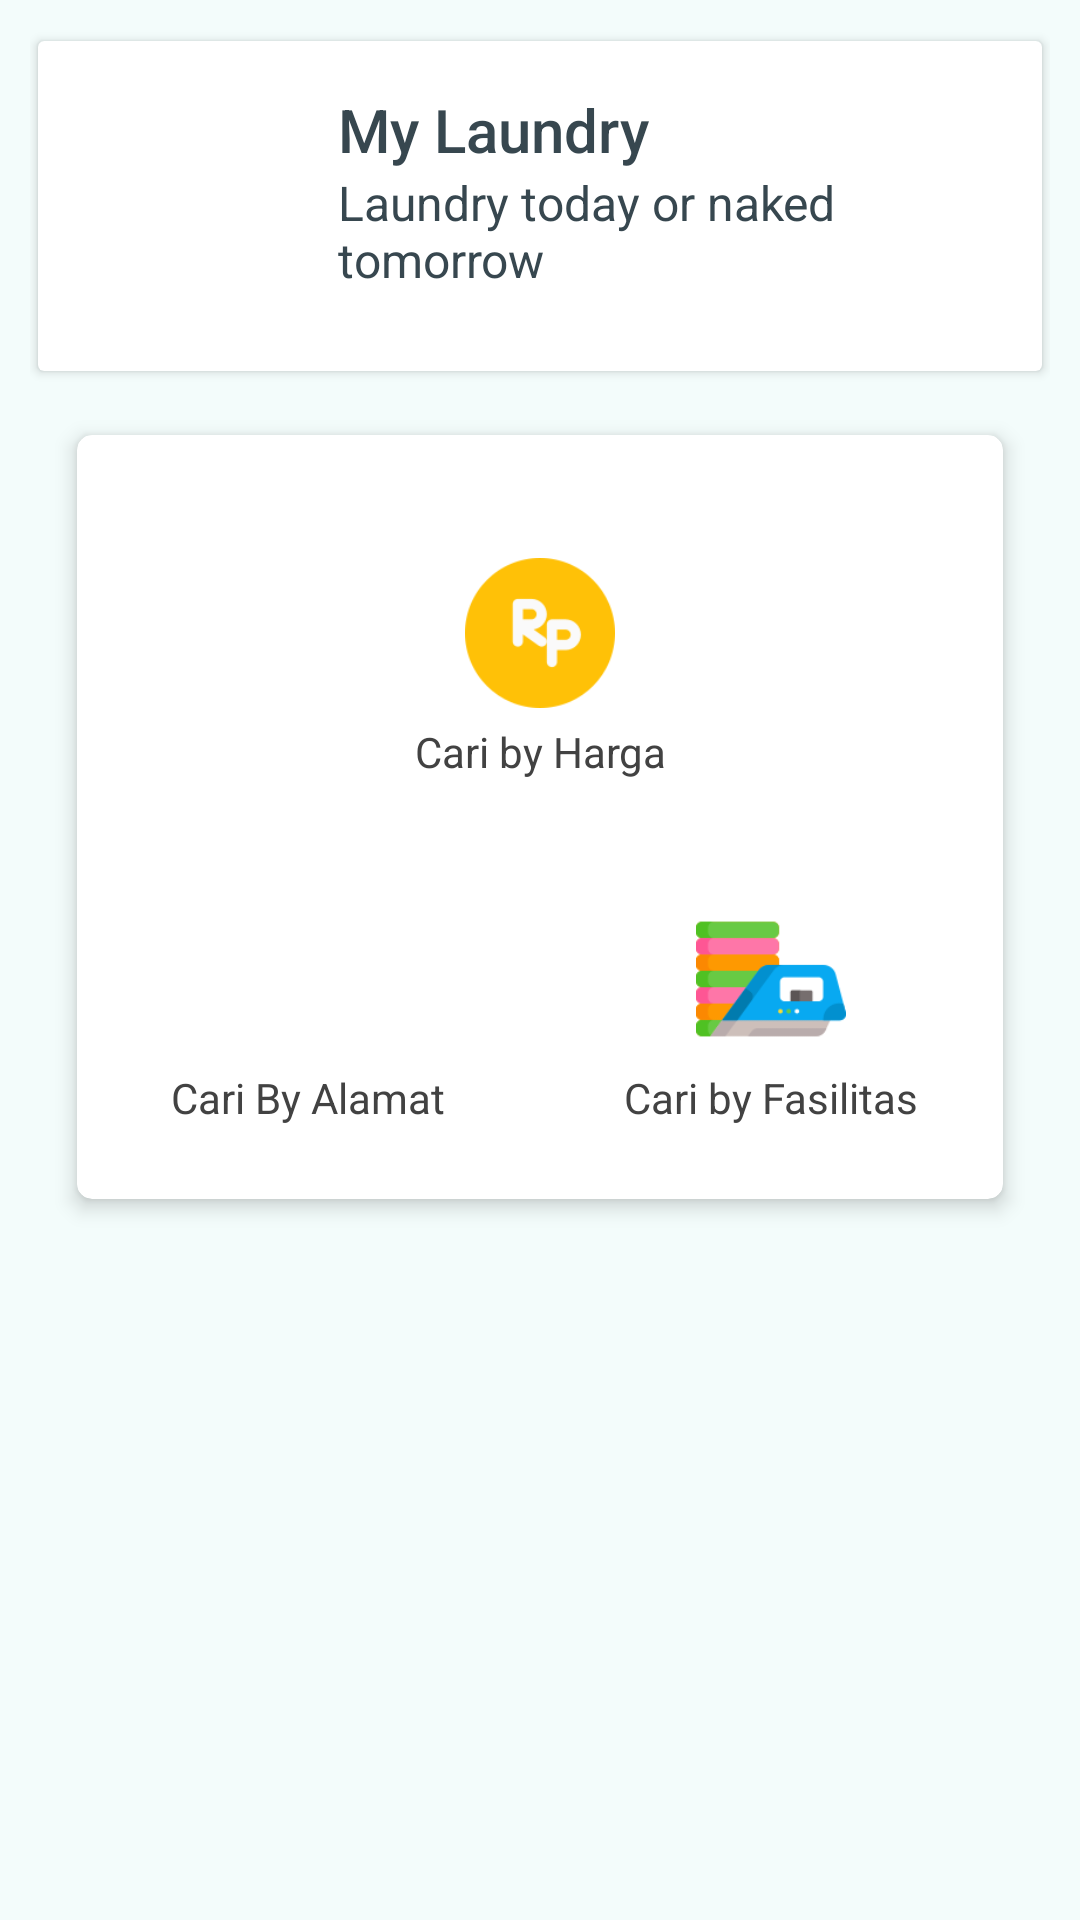

Screen size 1080x1920. Icon name, then its box in pixels as rect(x1, y1, x2, y2):
iron: rect(696, 921, 846, 1037)
rupiah: rect(465, 558, 615, 708)
